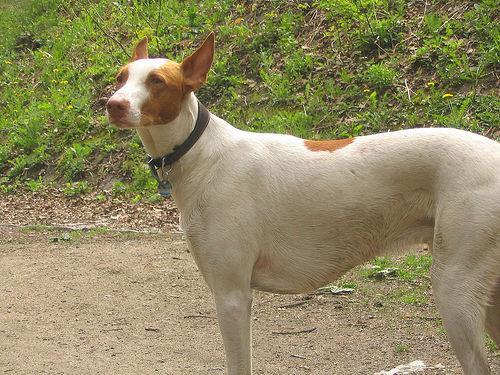Ibizan_hound: (109, 36, 499, 374)
